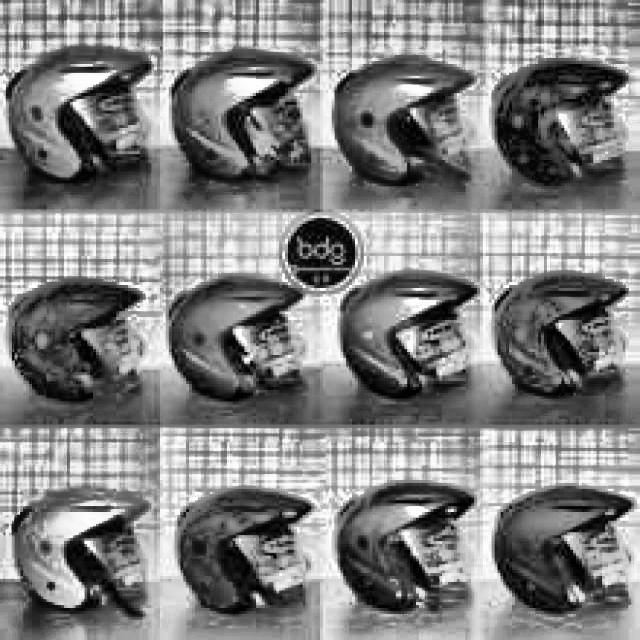Helmet: (9, 472, 161, 628), (3, 40, 161, 186), (175, 44, 325, 194), (156, 269, 308, 410), (489, 472, 639, 614), (19, 250, 142, 421), (483, 52, 631, 192), (327, 262, 475, 402), (334, 44, 472, 194), (180, 470, 320, 616), (489, 269, 630, 410), (340, 473, 476, 611)
